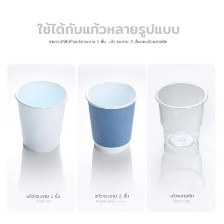paper_cup: (11, 76, 70, 157), (82, 77, 141, 156), (151, 78, 211, 137)
